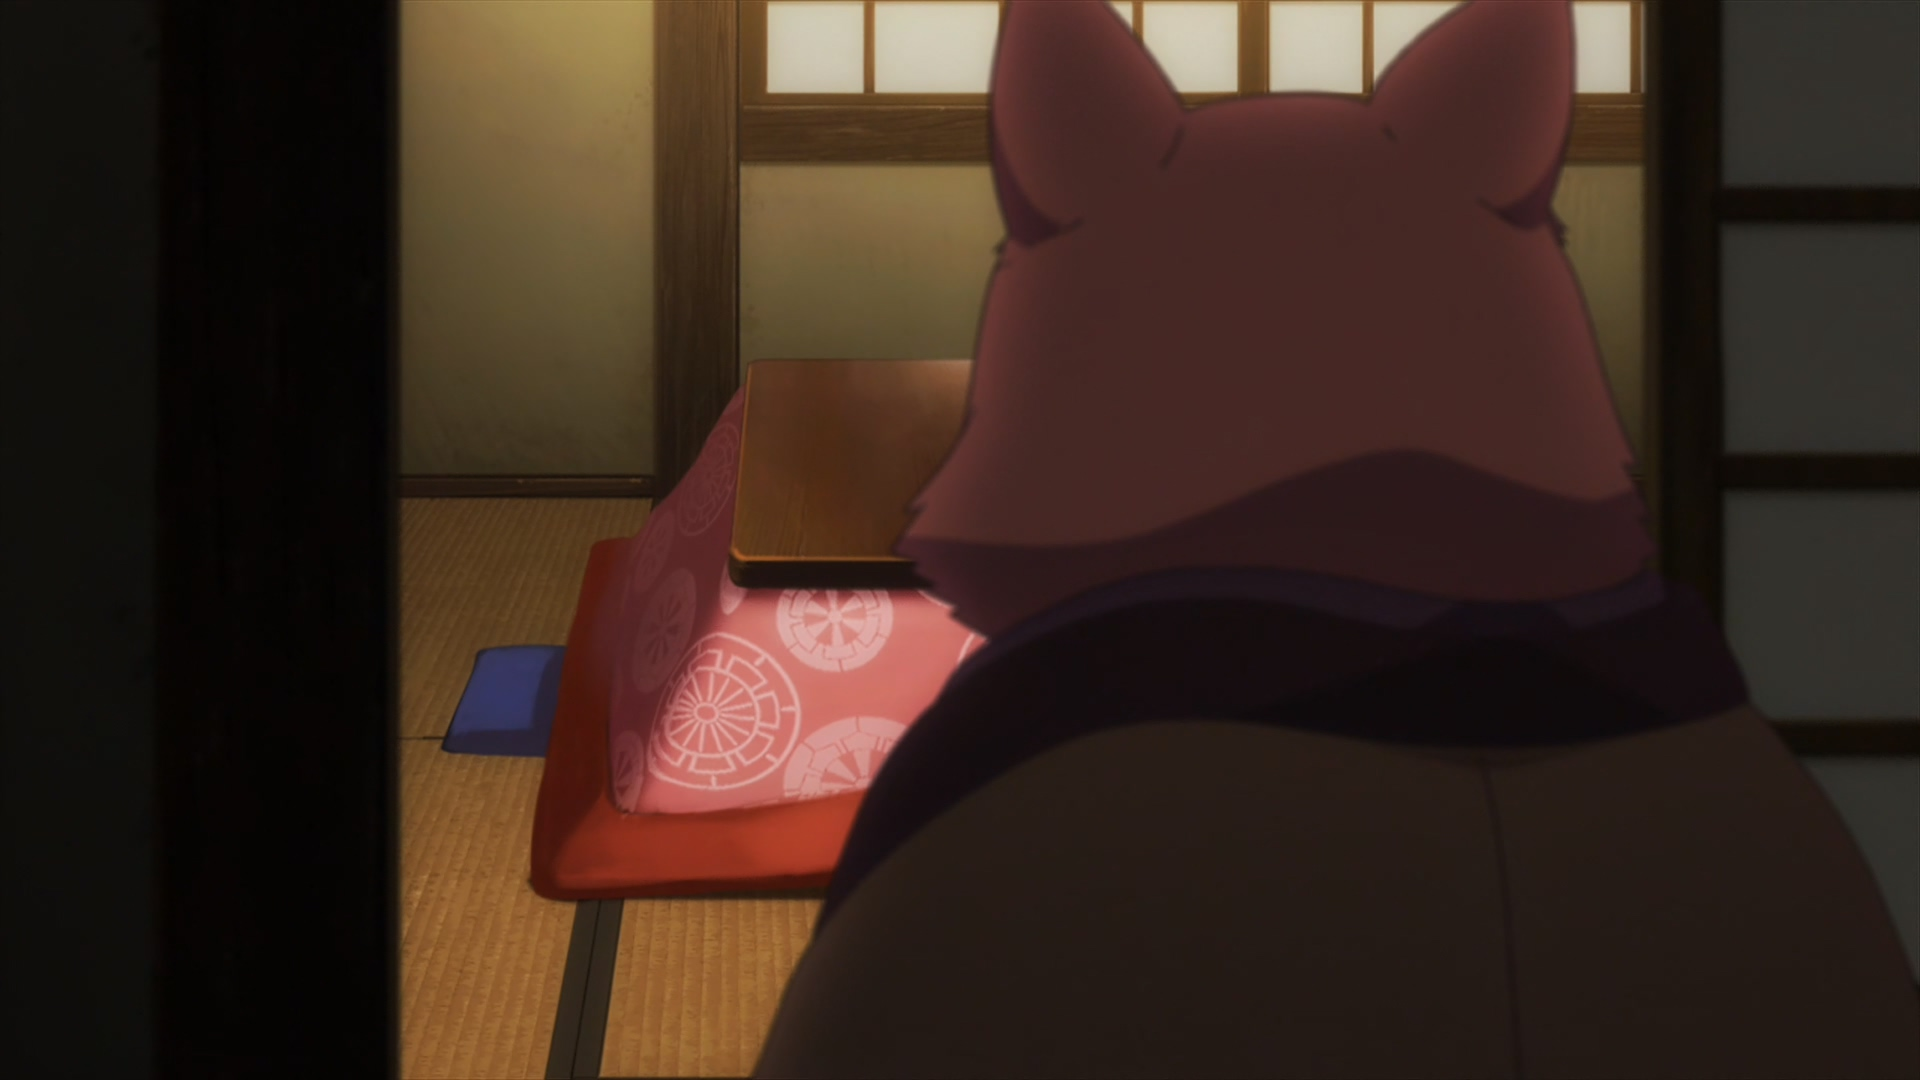椿: (745, 1, 1920, 1080)
